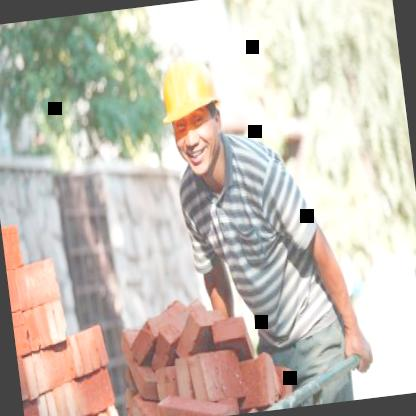helmet: (148, 40, 234, 182)
